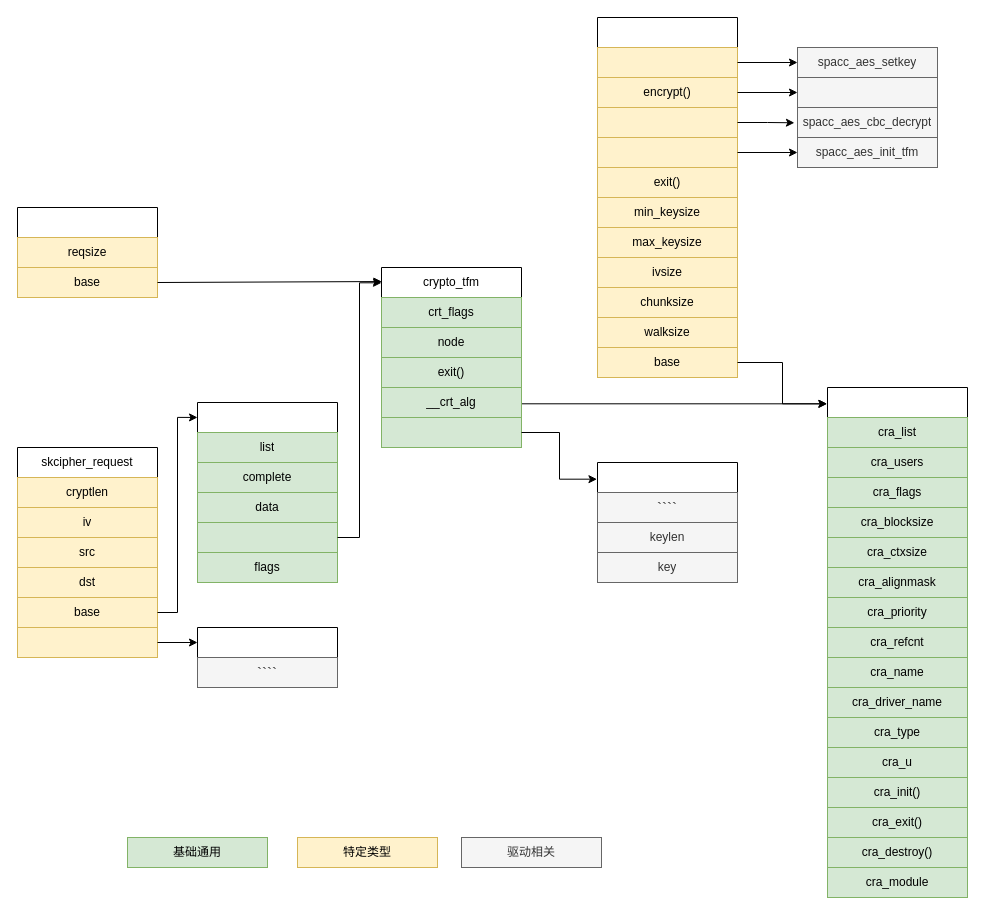
Some shapes in this 985 by 915 pixel diagram are drawn without their labels. The box of each missing label's shape, as (x1, y1, x2, y2) in pixels:
__crt_ctx: (380, 416, 522, 448)
__ctx: (16, 626, 158, 658)
crypto_alg: (826, 386, 968, 898)
crypto_async_request: (196, 402, 338, 582)
crypto_skcipher: (16, 206, 158, 298)
decrypt(): (596, 106, 738, 138)
init(): (596, 136, 738, 168)
setkey(): (596, 46, 738, 78)
skcipher_alg: (596, 16, 738, 378)
spacc_aes_cbc_encrypt: (796, 76, 938, 108)
spacc_aes_ctx: (596, 462, 738, 582)
spacc_aes_reqctx: (196, 626, 338, 688)
tfm: (196, 522, 338, 552)
